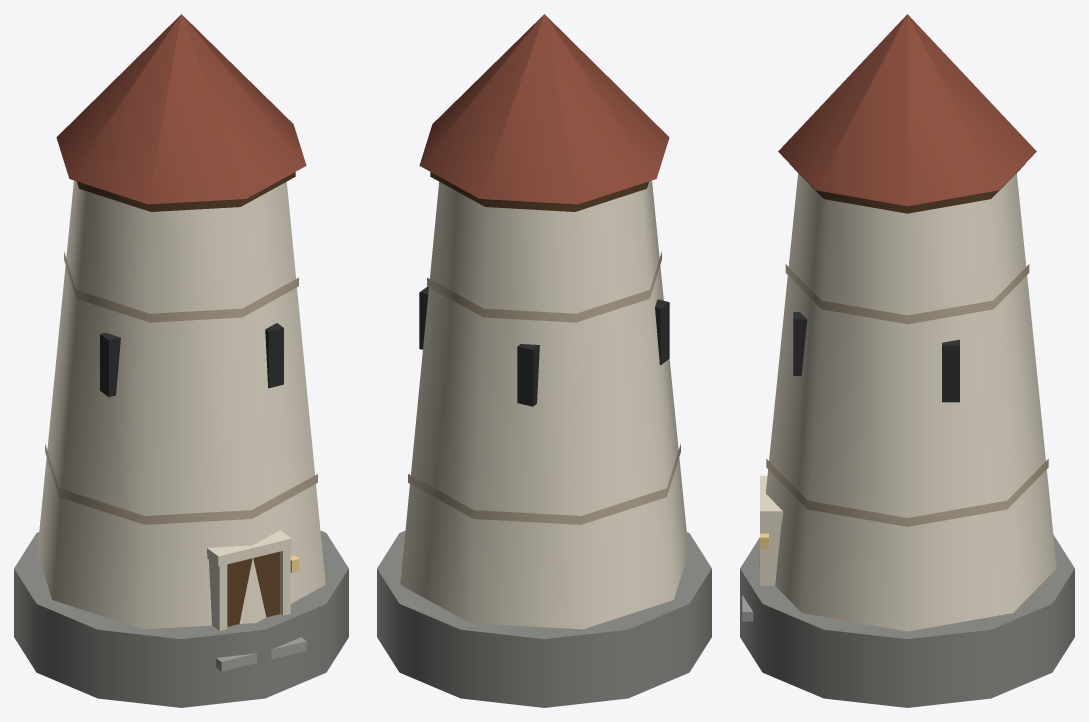
File: Windmill.glb
3 views of the same model, side by side, from view 1: azimuth 30°, elevation 25°; view 2: azimuth 150°, elevation 25°; view 3: azimuth 270°, elevation 25° (orthographic).
Visible parts, largest first — view 1: Windmill; view 2: Windmill; view 3: Windmill.
Part boxes in pixels (x1=…): Windmill: x1=14, y1=14, x2=348, y2=707; Windmill: x1=377, y1=14, x2=711, y2=707; Windmill: x1=740, y1=14, x2=1074, y2=707.
Bounding box in the file's own units: 7.5 × 15.4 × 7.5.
